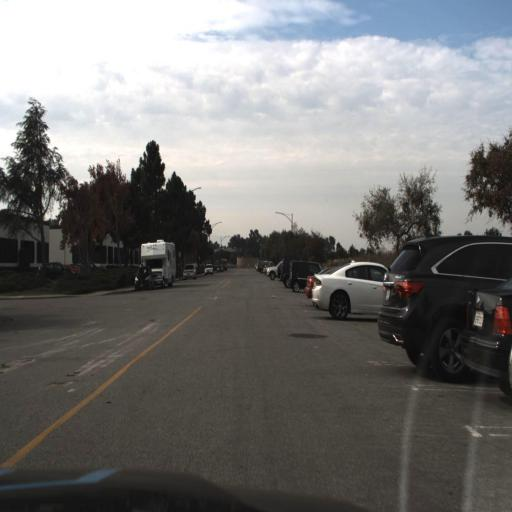car: (377, 231, 467, 374), (463, 264, 512, 400), (308, 259, 384, 326), (136, 264, 158, 292)
truck: (146, 241, 178, 283)
